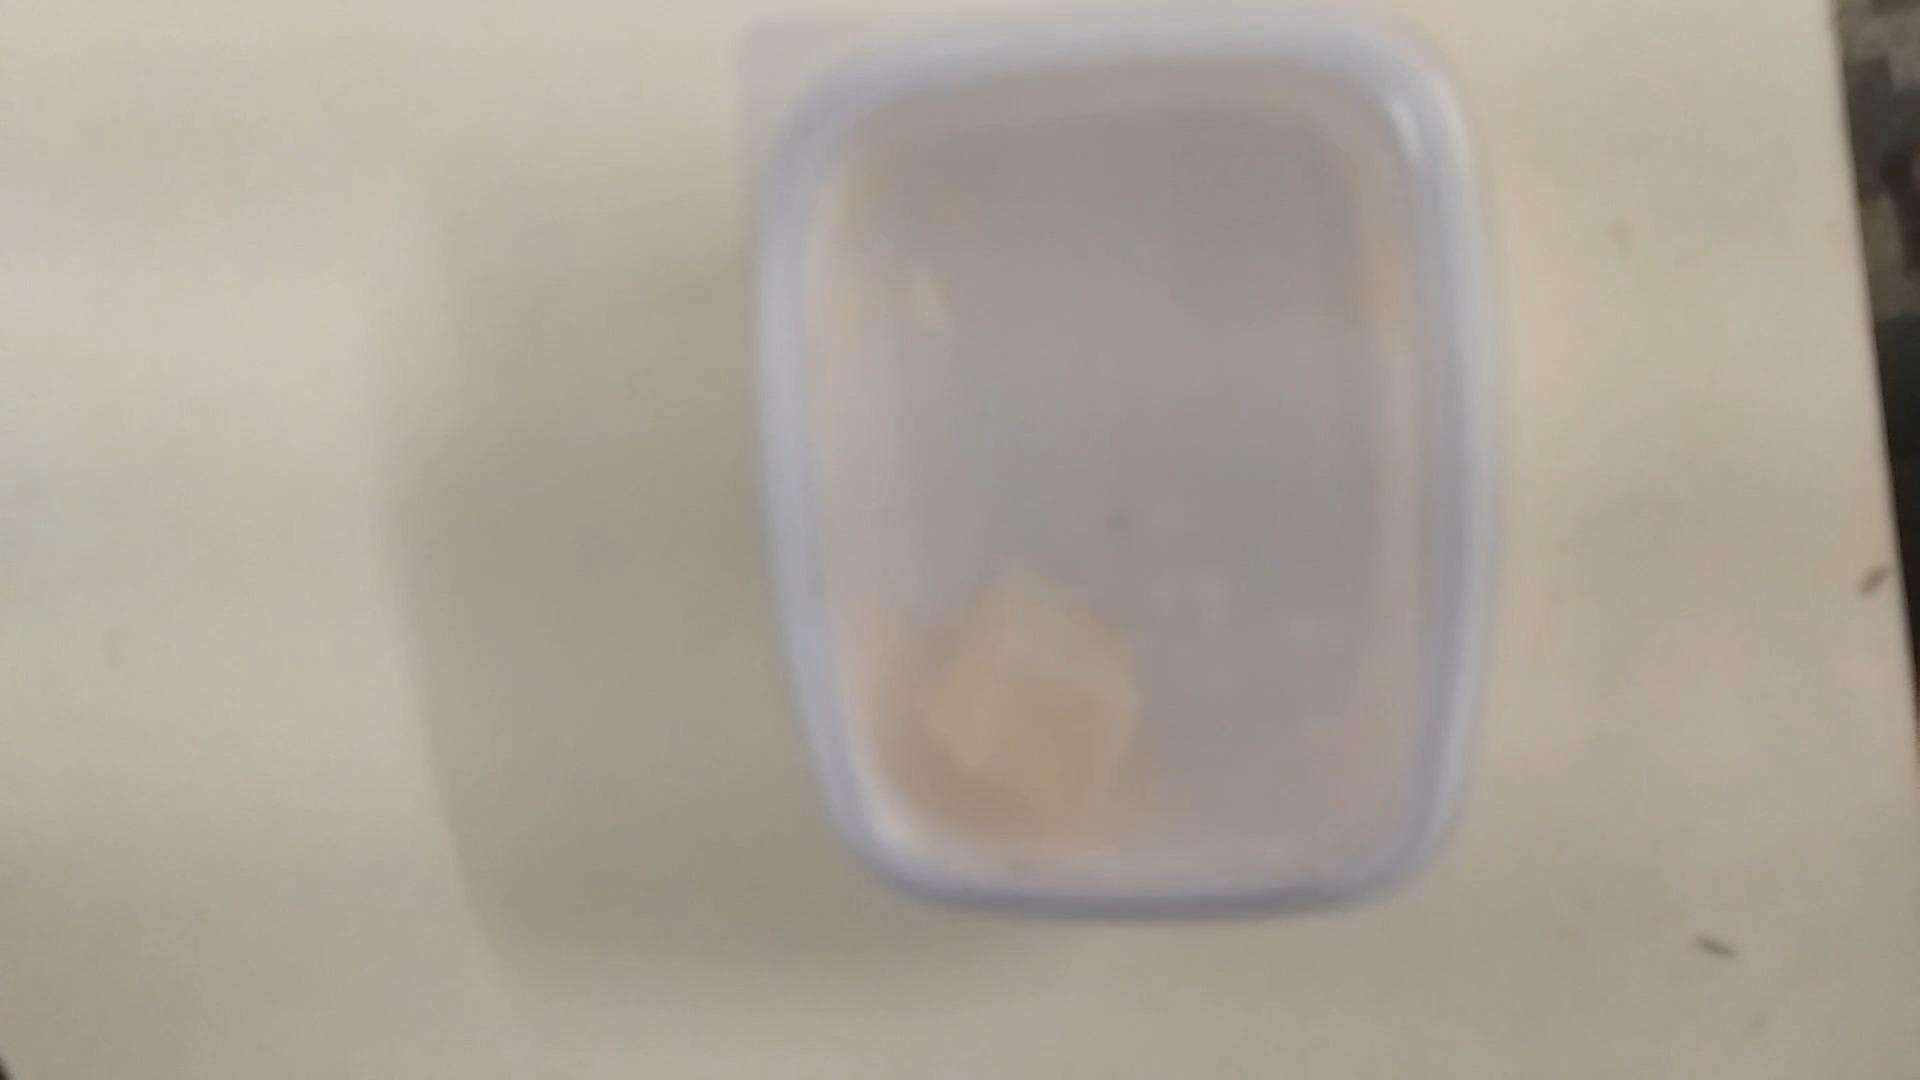butter: (756, 3, 1480, 923)
